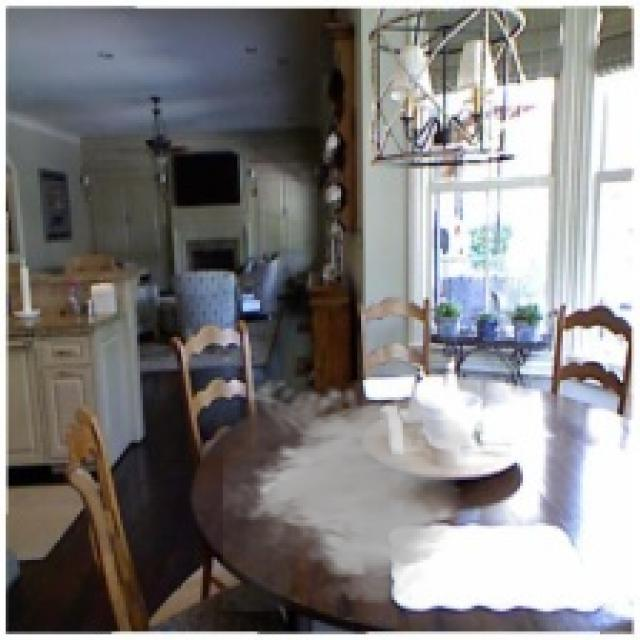smoke: (223, 372, 477, 612)
